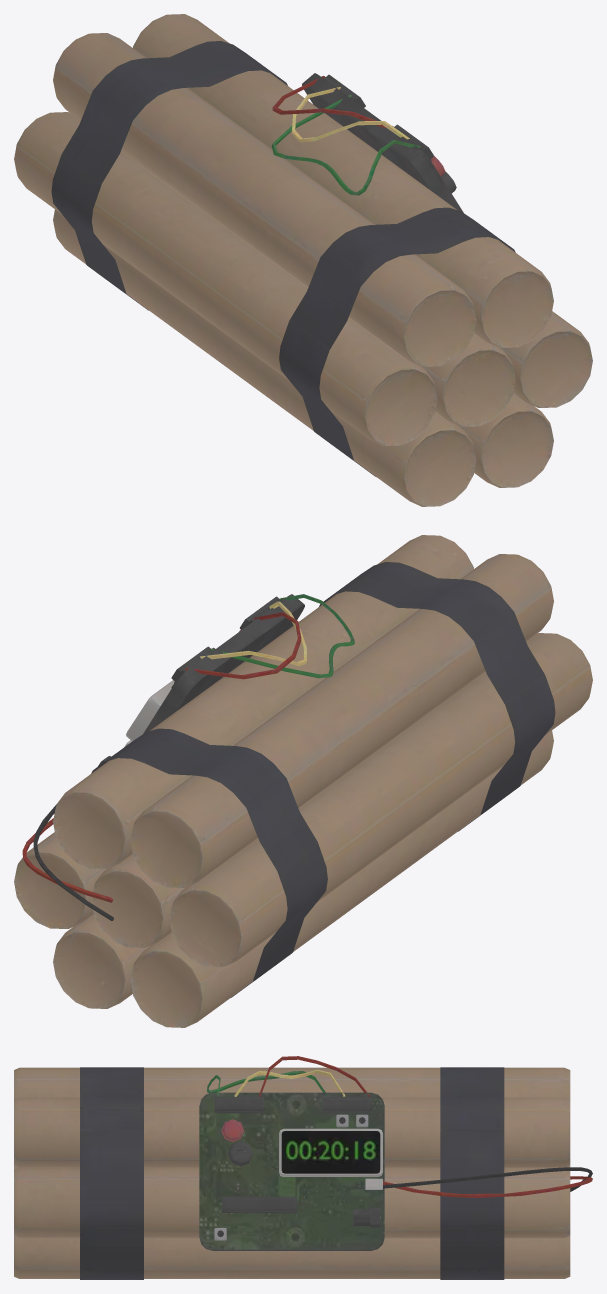
File: c4_bomb.glb
3 views of the same model, one above another, from view 1: azimuth 30°, elevation 25°; view 2: azimuth 150°, elevation 25°; view 3: azimuth 270°, elevation 25° (orthographic). The views are drawn at different scales.
Visible parts, largest first — view 1: Object_2; view 2: Object_2; view 3: Object_2.
Boxes of the visible parts, <box> form: Object_2: <box>14,14,592,506</box>; Object_2: <box>14,535,592,1027</box>; Object_2: <box>14,1056,592,1279</box>.
Size of the model in its own units: 2.85 by 2.64 by 6.64.
Materials: 1 (1 with a texture image).
